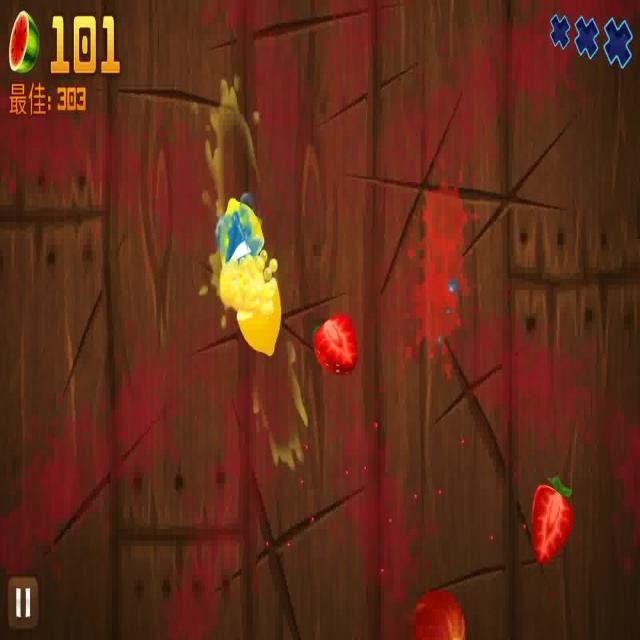fruit: (528, 476, 573, 565), (234, 276, 279, 358), (218, 194, 266, 263), (410, 589, 465, 640), (312, 318, 364, 368)
